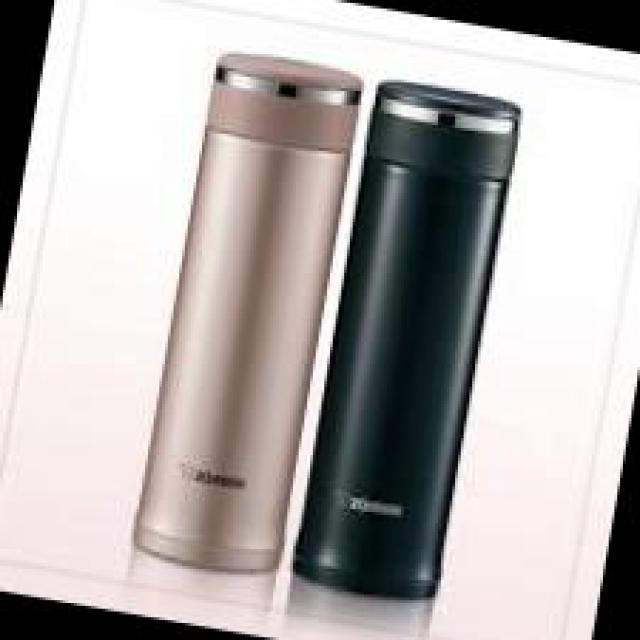bottle: (122, 38, 367, 579), (284, 73, 526, 613)
